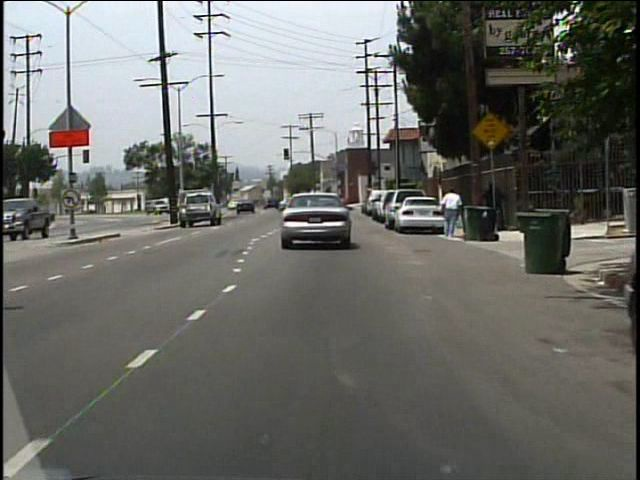person: (439, 186, 463, 239)
